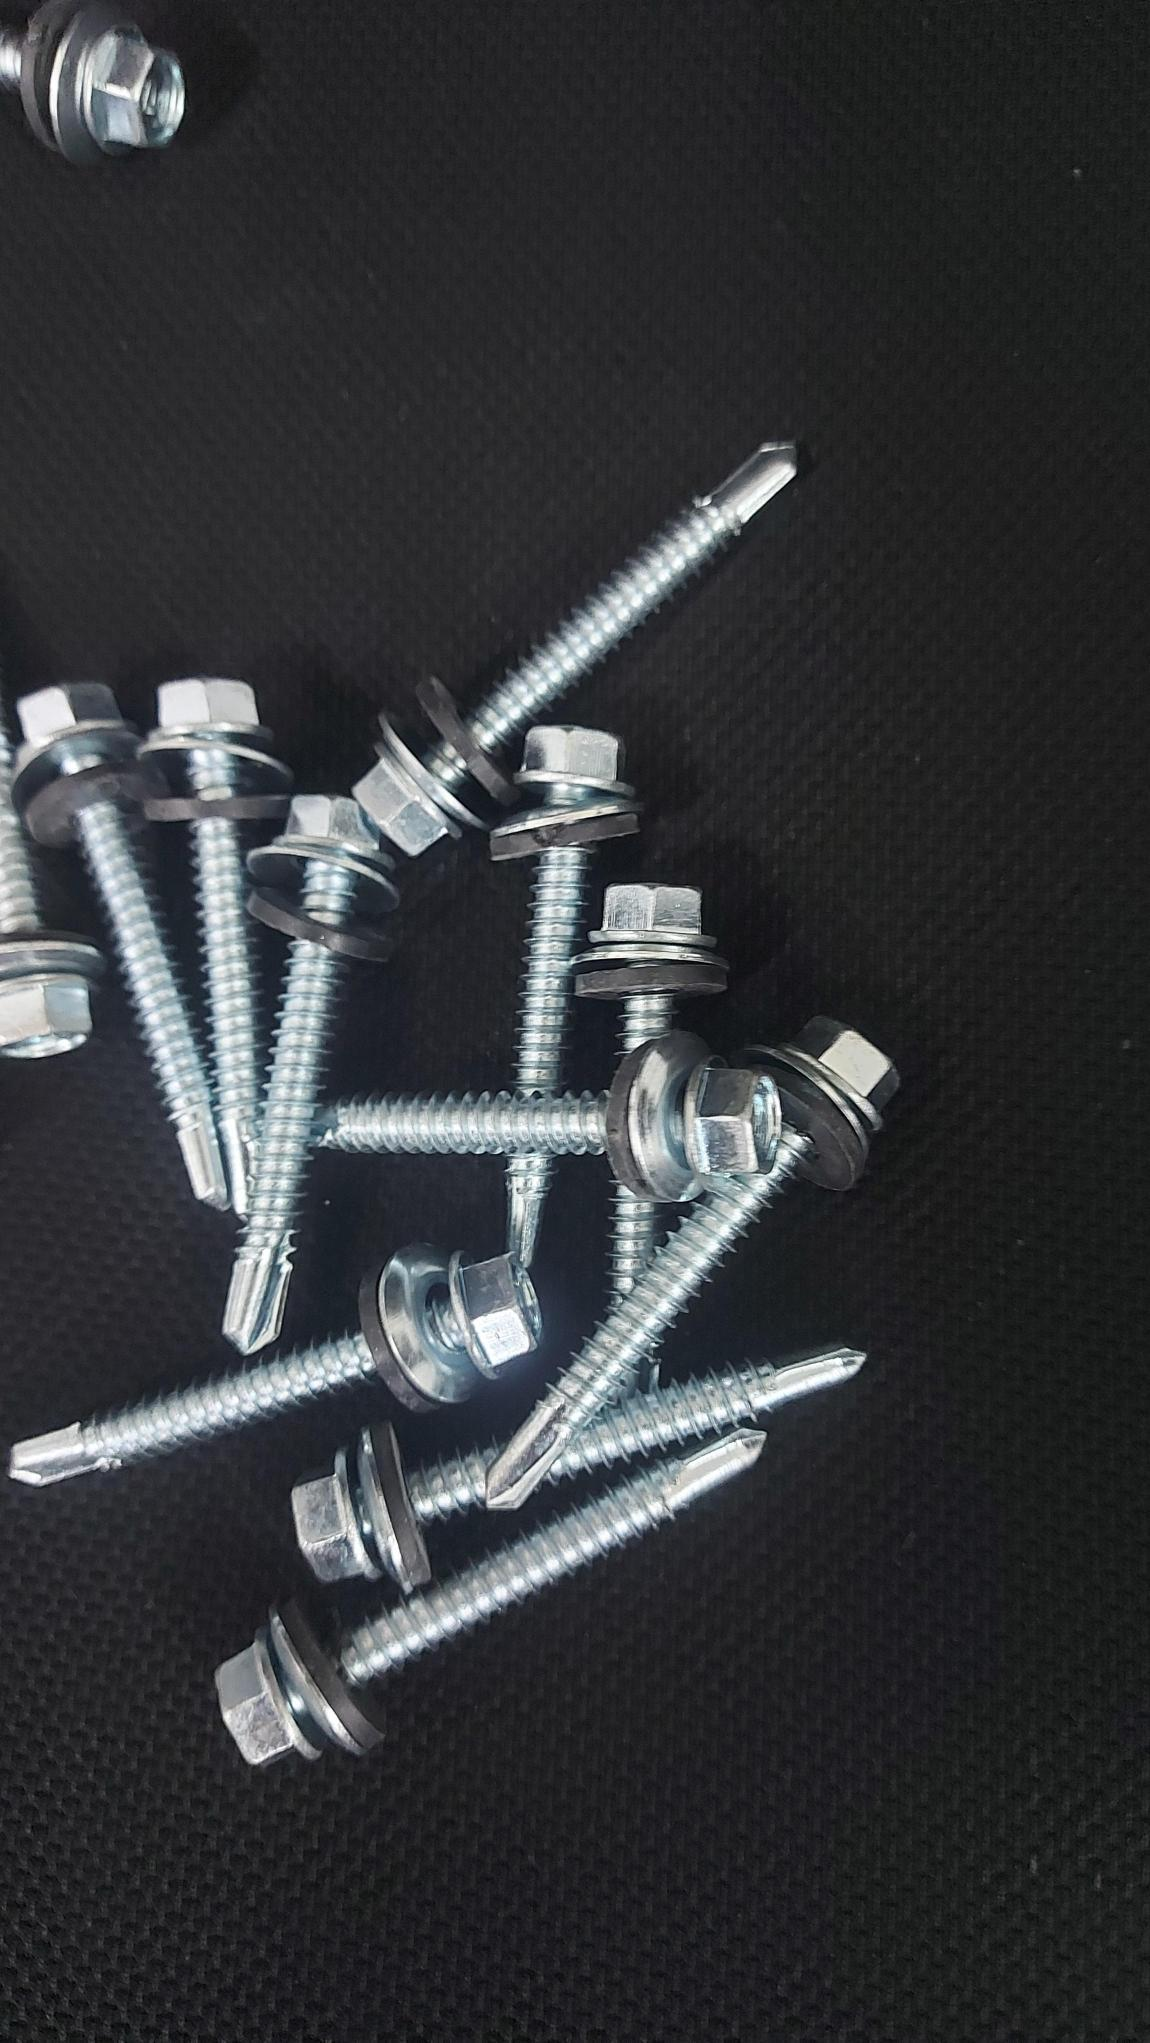Screw: (487, 1017, 898, 1508), (353, 443, 797, 856), (216, 1431, 764, 1764), (8, 1245, 540, 1486), (14, 683, 226, 1205), (223, 796, 395, 1353), (142, 676, 290, 1217), (317, 1031, 780, 1201), (489, 725, 635, 1096), (548, 1347, 864, 1480), (0, 709, 102, 1059), (292, 1420, 495, 1593), (576, 883, 726, 1057), (609, 1186, 656, 1297)
